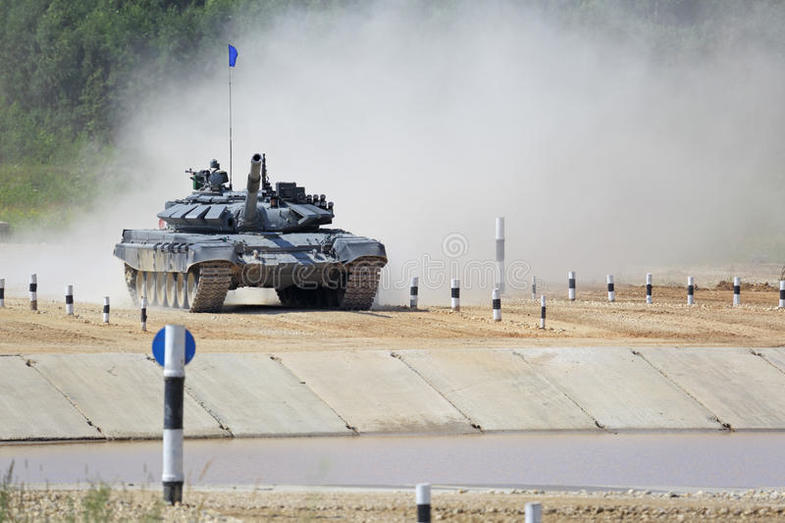t72: (124, 150, 394, 318)
